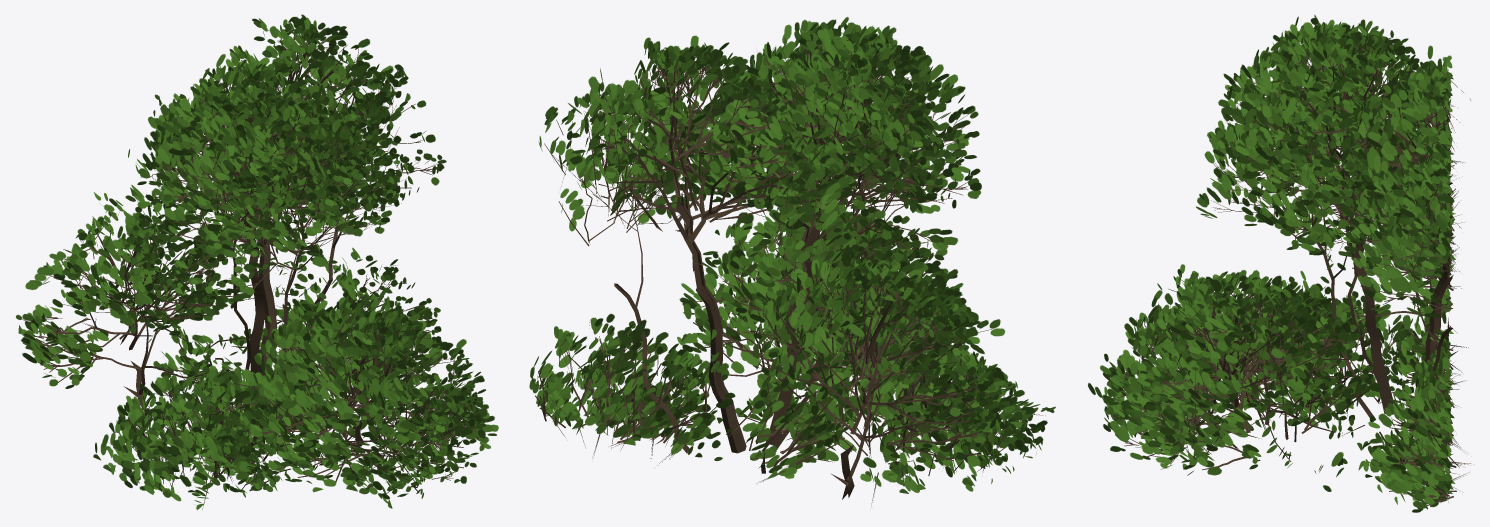
3 renders of one model, left to right at view 1: azimuth 30°, elevation 25°; view 2: azimuth 150°, elevation 25°; view 3: azimuth 270°, elevation 25°, orthographic. The views are drawn at different scales.
Visible parts, largest first — view 1: oak 01.001_trunk_Mat.001_0.225; view 2: oak 01.001_trunk_Mat.001_0.225; view 3: oak 01.001_trunk_Mat.001_0.225.
Boxes of the visible parts, x1,y1,x2,y2 form: oak 01.001_trunk_Mat.001_0.225: (16,14,498,509); oak 01.001_trunk_Mat.001_0.225: (529,17,1055,505); oak 01.001_trunk_Mat.001_0.225: (1088,14,1470,512).
Size of the model in its own units: 5.21 by 4.72 by 4.09.
Materials: 2 (1 with a texture image).
